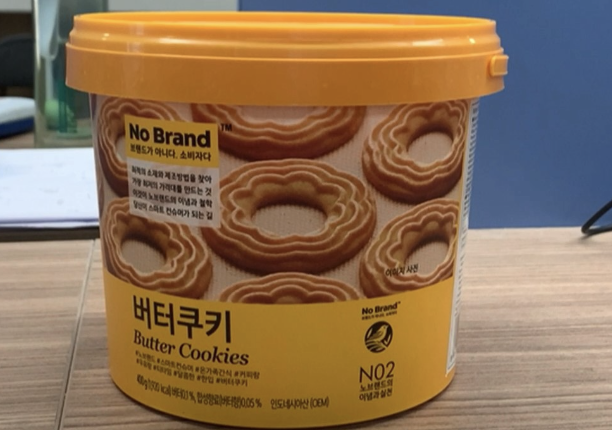cookies_400g-499g: (114, 40, 426, 412)
